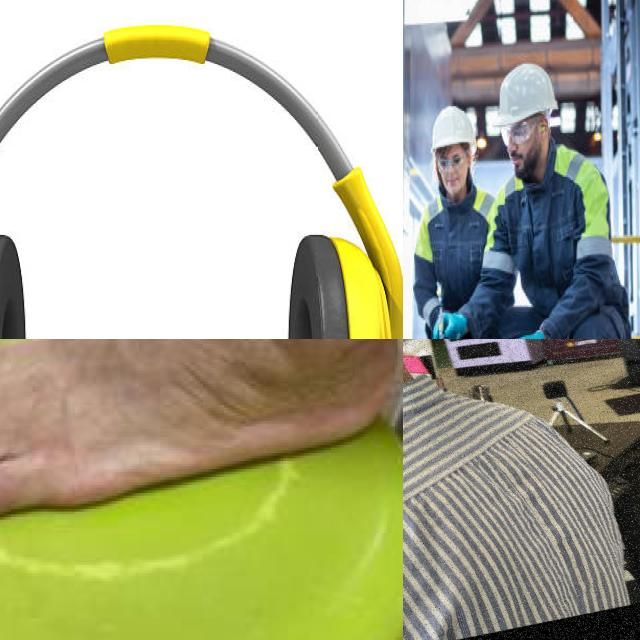Barefoots: (0, 339, 403, 548)
Ear-protection: (0, 20, 403, 339)
No_Ear-Protection: (540, 117, 550, 139), (468, 150, 474, 168)
face_nomask: (507, 130, 541, 182), (441, 158, 468, 193)
glasses: (501, 117, 542, 146), (437, 154, 466, 173)
hand_glove: (443, 313, 467, 339)
head_helmet: (493, 62, 558, 127), (433, 107, 476, 151)
